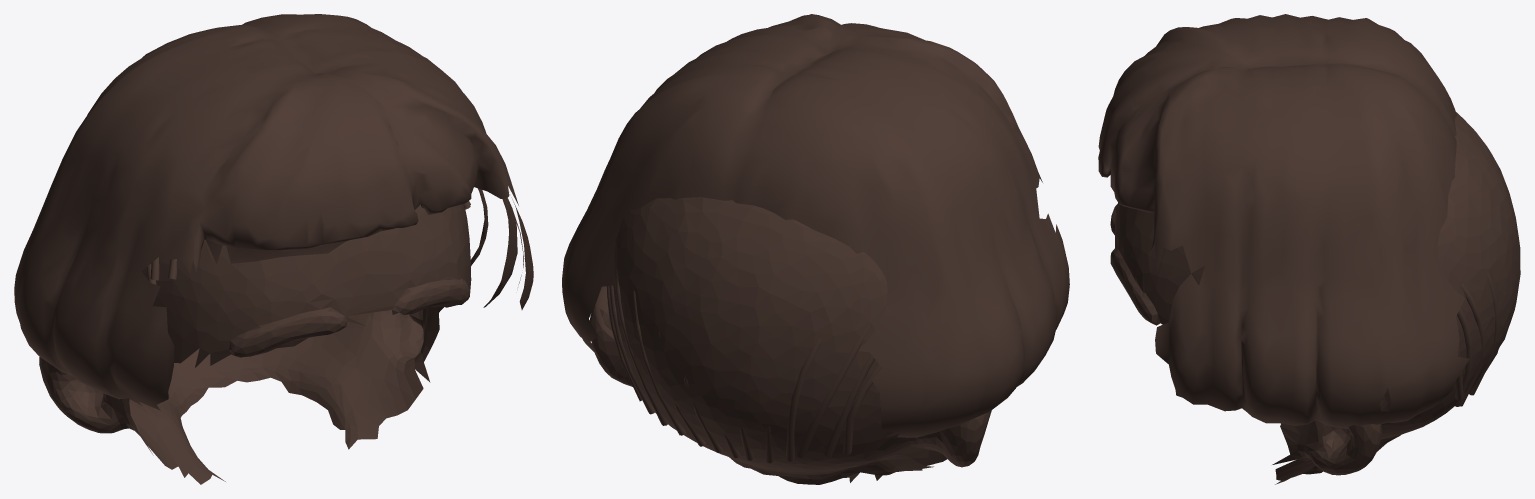
Rendered from blunt-bob.glb.
3 renders of one model, left to right at view 1: azimuth 30°, elevation 25°; view 2: azimuth 150°, elevation 25°; view 3: azimuth 270°, elevation 25°, orthographic. The views are drawn at different scales.
Visible parts, largest first — view 1: Hair, HairScalp; view 2: Hair, HairScalp, HairPulledRootStrands; view 3: Hair, HairScalp, HairPulledRootStrands.
Boxes of the visible parts, box(x1,y1,x2,y2) form: Hair: box(14, 14, 533, 410); HairScalp: box(39, 204, 471, 484); Hair: box(562, 14, 1069, 437); HairScalp: box(590, 197, 991, 484); HairPulledRootStrands: box(606, 269, 881, 463); Hair: box(1098, 14, 1469, 428); HairScalp: box(1110, 112, 1520, 484); HairPulledRootStrands: box(1453, 273, 1515, 406).
Size of the model in its own units: 0.5224 by 0.4565 by 0.4321.
